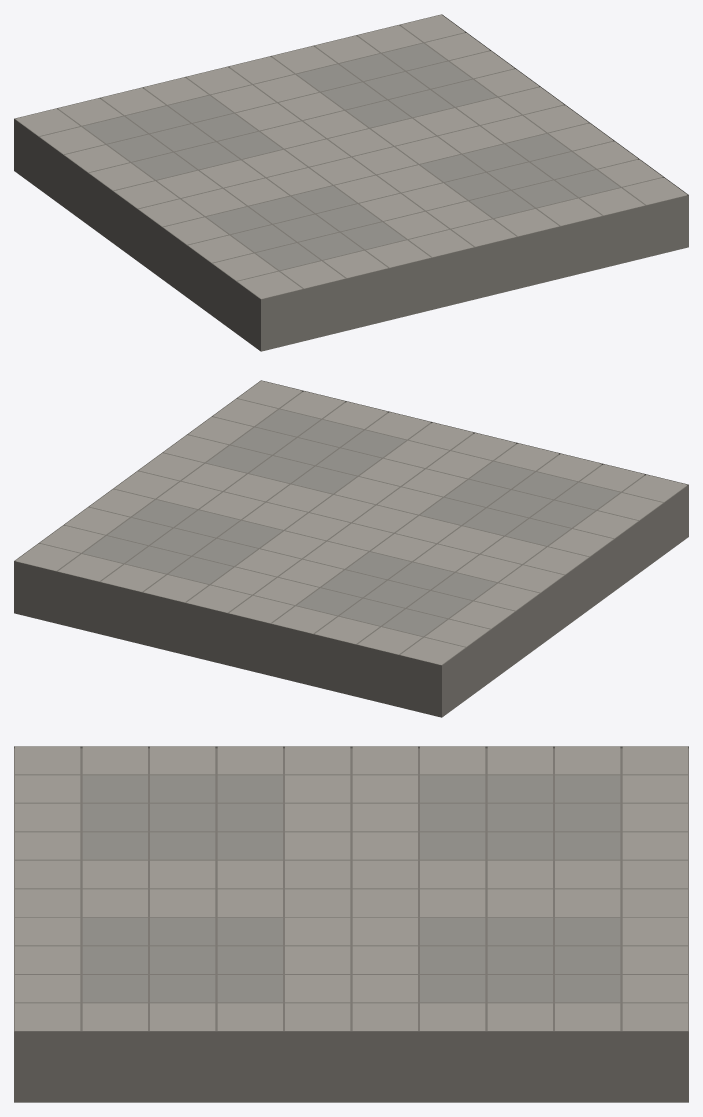
The model's file is SC_Gnd_Sidewalk_3x3.gltf.
The picture shows the model from 3 angles, top to bottom: view 1: azimuth 30°, elevation 25°; view 2: azimuth 150°, elevation 25°; view 3: azimuth 270°, elevation 25°; orthographic projection. The views are drawn at different scales.
Parts seen in each view (by area): view 1: SC_Gnd_Sidewalk_3x3; view 2: SC_Gnd_Sidewalk_3x3; view 3: SC_Gnd_Sidewalk_3x3.
Boxes of the visible parts, box(x1,y1,x2,y2) form: SC_Gnd_Sidewalk_3x3: box(14, 14, 688, 351); SC_Gnd_Sidewalk_3x3: box(14, 380, 688, 717); SC_Gnd_Sidewalk_3x3: box(14, 746, 688, 1102).
Bounding box in the file's own units: 3 × 0.35 × 3.
1 material, 1 textured.
